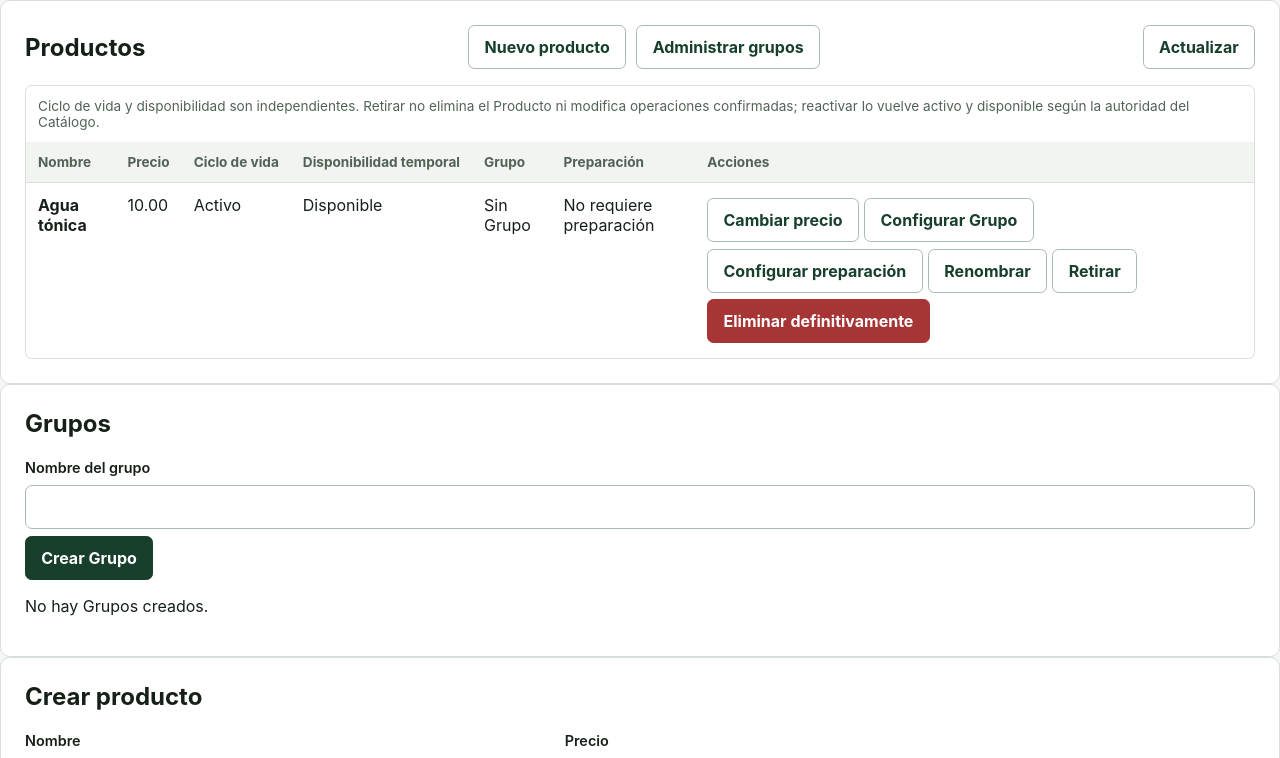
Test: CatalogPanel - eliminación definitiva › explains confirmed participation and does not retire automatically
Click the button with aria-label "Eliminar definitivamente Agua tónica" at x=818, y=321, box 707,299 -> 930,343
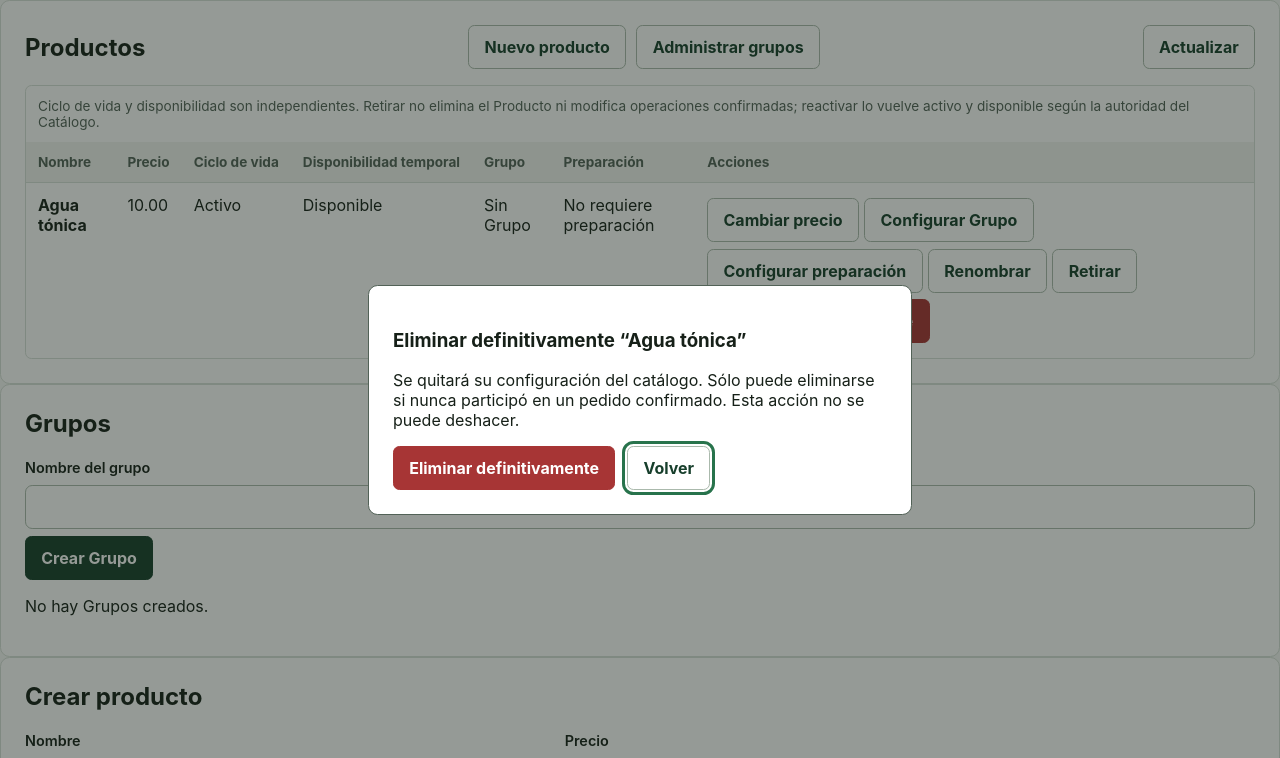
Click the button "Eliminar definitivamente" at x=504, y=468, box 393,446 -> 615,490
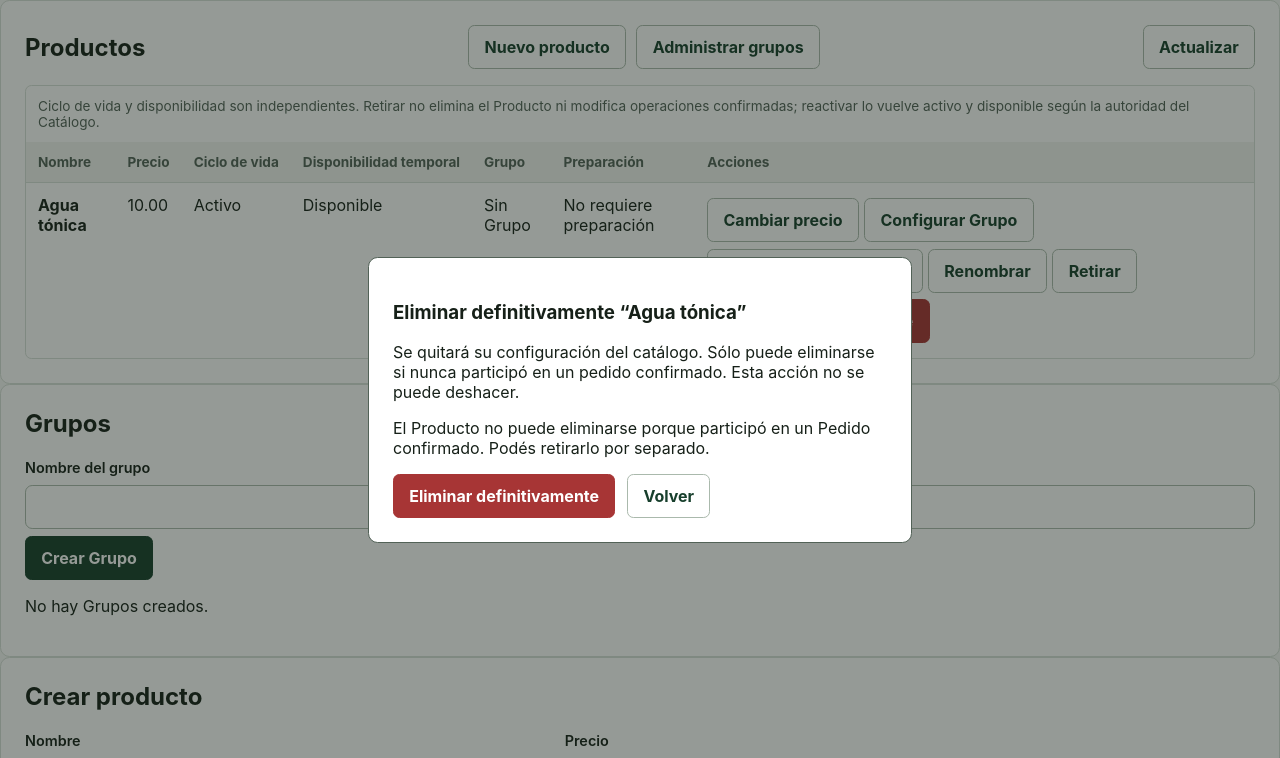
Expected: the button with aria-label "Retirar Agua tónica" is shown, 1052,249 -> 1137,293
Result: the text "Podés retirarlo por separado" is shown at 393,418 -> 870,458
